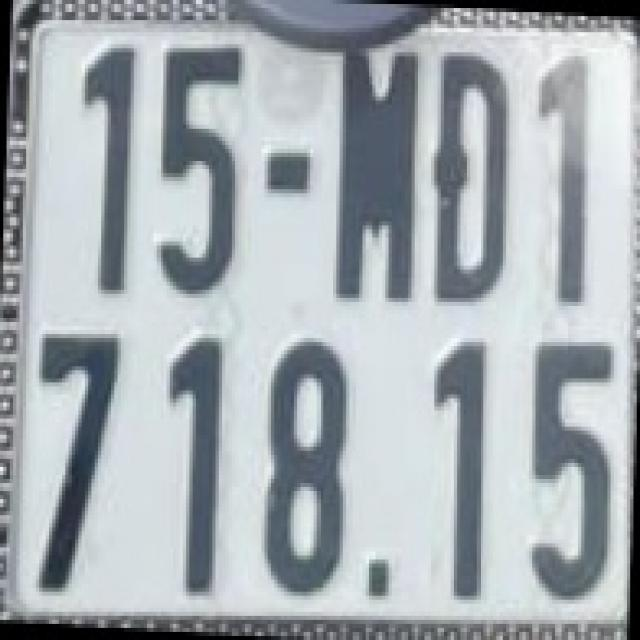1: (160, 330, 232, 600), (428, 334, 496, 600), (532, 48, 598, 302), (78, 40, 140, 294)
5: (154, 36, 248, 294), (526, 334, 614, 604)
7: (32, 326, 124, 596)
8: (258, 330, 353, 596)
D: (431, 48, 513, 302)
M: (336, 38, 422, 308)
